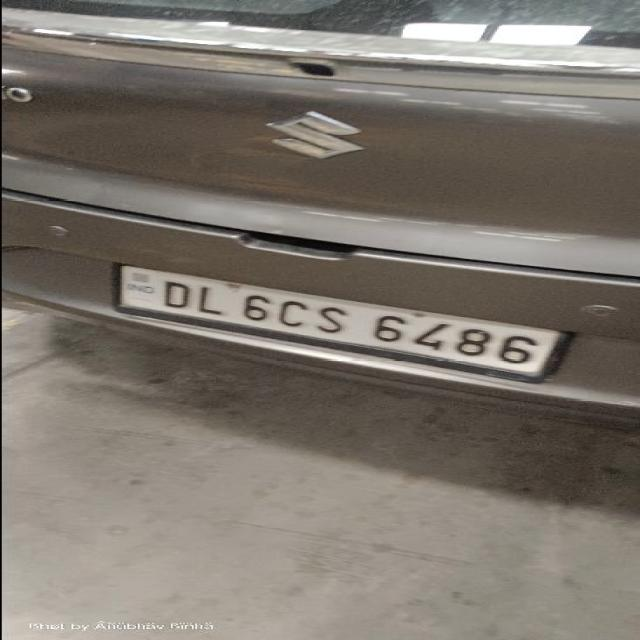license_plate: (110, 262, 574, 383)
